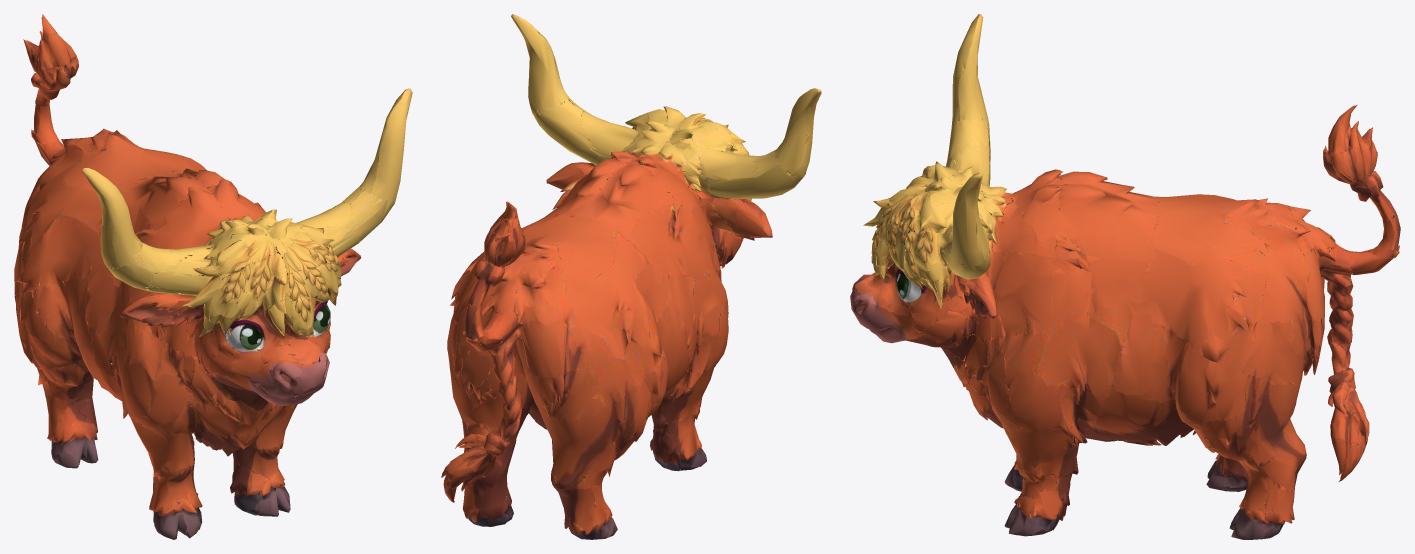
The picture shows the model from 3 angles, left to right: view 1: azimuth 30°, elevation 25°; view 2: azimuth 150°, elevation 25°; view 3: azimuth 270°, elevation 25°; orthographic projection. The views are drawn at different scales.
Parts seen in each view (by area): view 1: Mesh_0; view 2: Mesh_0; view 3: Mesh_0.
Part boxes in pixels (x1,y1,x2,y2): Mesh_0: (14, 14, 412, 539); Mesh_0: (441, 14, 821, 539); Mesh_0: (850, 14, 1400, 539).
Bounding box in the file's own units: 1.33 × 1.58 × 1.9.
1 material, 1 textured.
